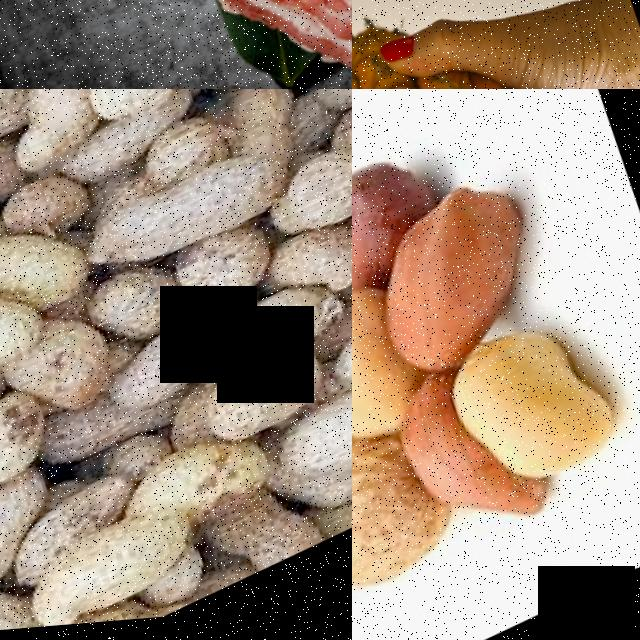peanuts: (432, 296, 640, 519), (354, 172, 566, 387), (76, 142, 295, 296), (21, 494, 219, 633), (352, 423, 464, 640), (181, 278, 348, 395), (352, 273, 441, 465), (198, 342, 341, 461), (0, 231, 63, 419), (270, 375, 352, 509), (0, 89, 115, 177), (0, 382, 68, 500), (45, 89, 187, 137)
pineapple: (352, 0, 640, 89)
pork belly: (37, 0, 352, 89)
